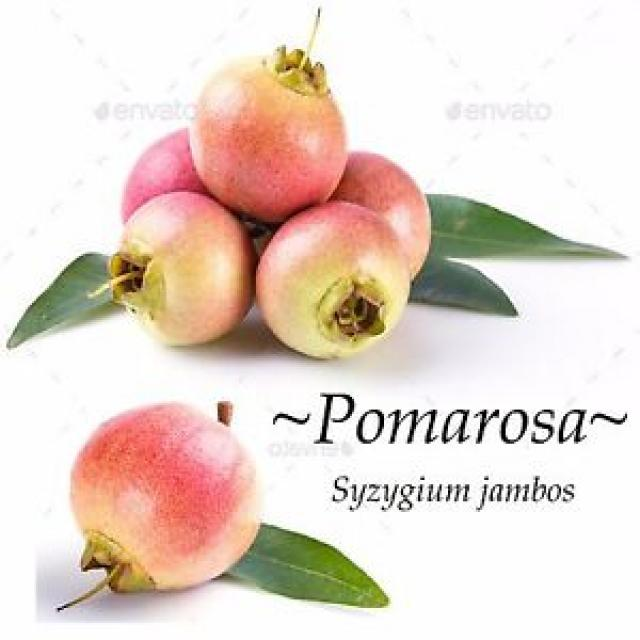Medicinal-Rose Apple: (9, 20, 630, 373), (38, 404, 356, 602)
